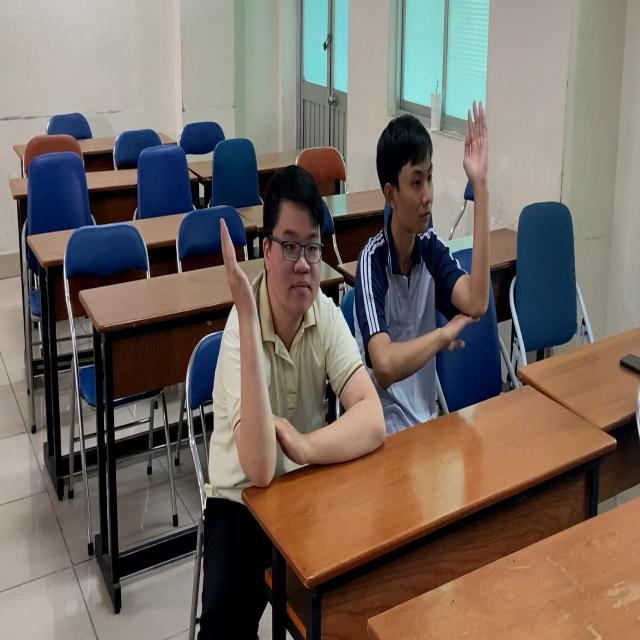raise_hand: (206, 164, 342, 539), (359, 86, 499, 406)
